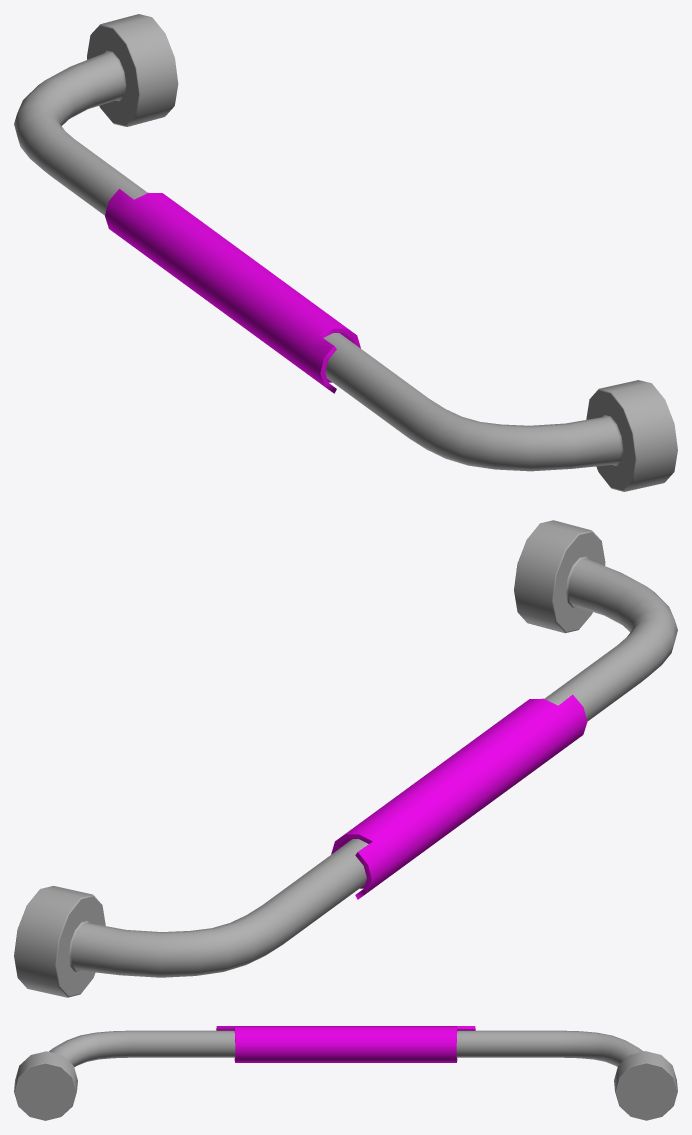
Rendered from SciFi_Pipe_Mesh_01.fbx.
3 views of the same model, one above another, from view 1: azimuth 30°, elevation 25°; view 2: azimuth 150°, elevation 25°; view 3: azimuth 270°, elevation 25° (orthographic). The views are drawn at different scales.
Visible parts, largest first — view 1: SciFi_Pipe_Mesh_01; view 2: SciFi_Pipe_Mesh_01; view 3: SciFi_Pipe_Mesh_01.
Part boxes in pixels (<box>): SciFi_Pipe_Mesh_01: <box>14,14,677,491</box>; SciFi_Pipe_Mesh_01: <box>14,520,677,997</box>; SciFi_Pipe_Mesh_01: <box>14,1026,677,1120</box>.
Size of the model in its own units: 76.14 by 37.17 by 383.
